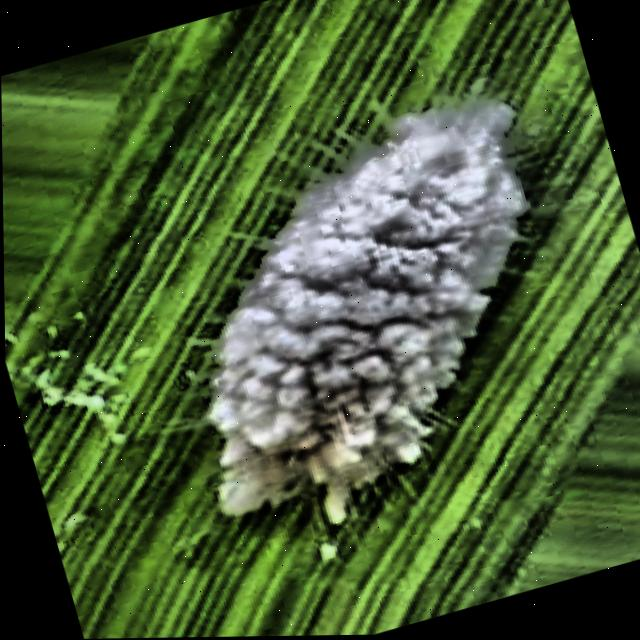Mealy-bug: (80, 40, 640, 581)
